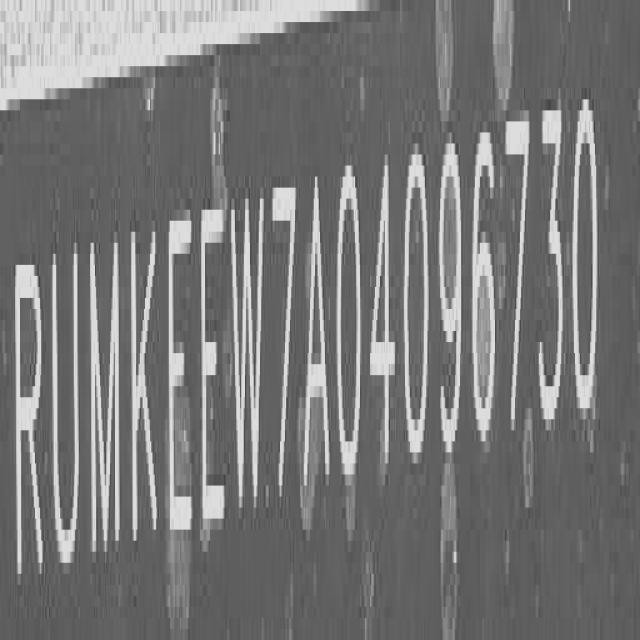0: (573, 99, 601, 428), (337, 161, 363, 501), (407, 146, 432, 475)
3: (540, 98, 569, 429)
4: (372, 151, 398, 488)
6: (472, 121, 500, 458)
7: (273, 176, 301, 528), (508, 105, 532, 452)
9: (437, 138, 464, 470)
A: (304, 175, 332, 520)
E: (167, 205, 193, 552), (200, 201, 225, 544)
K: (130, 212, 160, 544)
M: (87, 231, 124, 574)
R: (15, 255, 46, 592)
U: (47, 243, 80, 580)
W: (228, 186, 264, 540)
